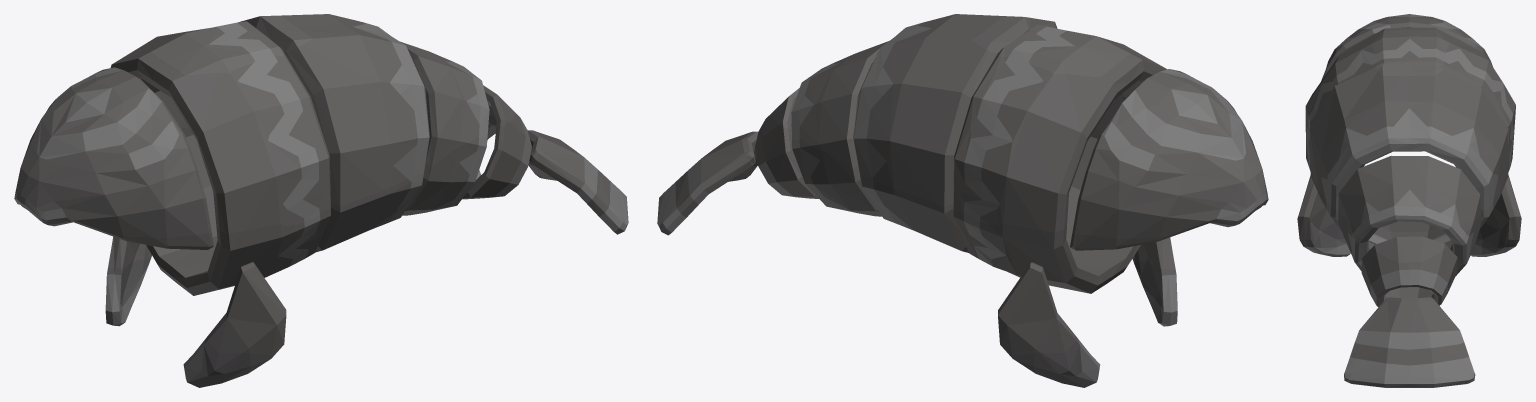
File: CharSkyKid_Prop_ColorKiteManatee.glb
The picture shows the model from 3 angles, left to right: view 1: azimuth 30°, elevation 25°; view 2: azimuth 150°, elevation 25°; view 3: azimuth 270°, elevation 25°; orthographic projection. The views are drawn at different scales.
Parts seen in each view (by area): view 1: CharSkyKid_Prop_ColorKiteManatee; view 2: CharSkyKid_Prop_ColorKiteManatee; view 3: CharSkyKid_Prop_ColorKiteManatee.
Part boxes in pixels (x1,y1,x2,y2): CharSkyKid_Prop_ColorKiteManatee: (14,14,628,387); CharSkyKid_Prop_ColorKiteManatee: (657,14,1268,387); CharSkyKid_Prop_ColorKiteManatee: (1297,14,1521,387).
Size of the model in its own units: 43.1 by 20.84 by 17.84.
1 material, 1 textured.
